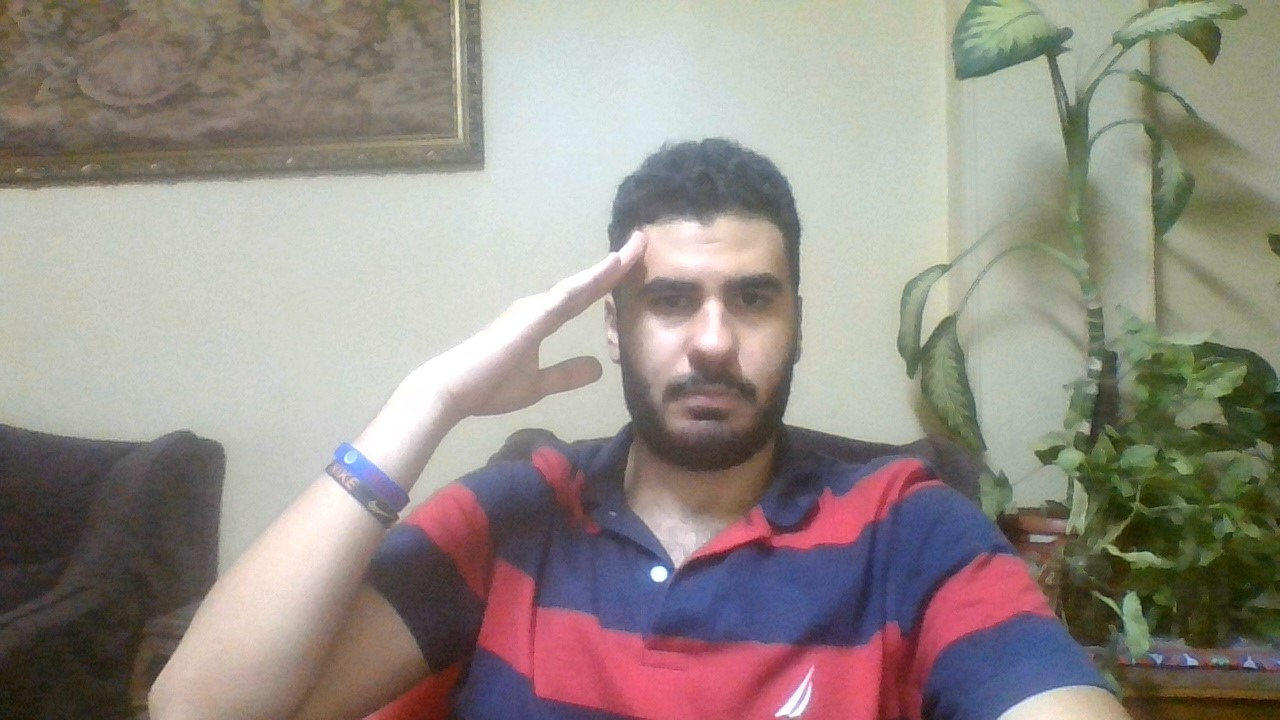hello: (416, 237, 649, 399)
